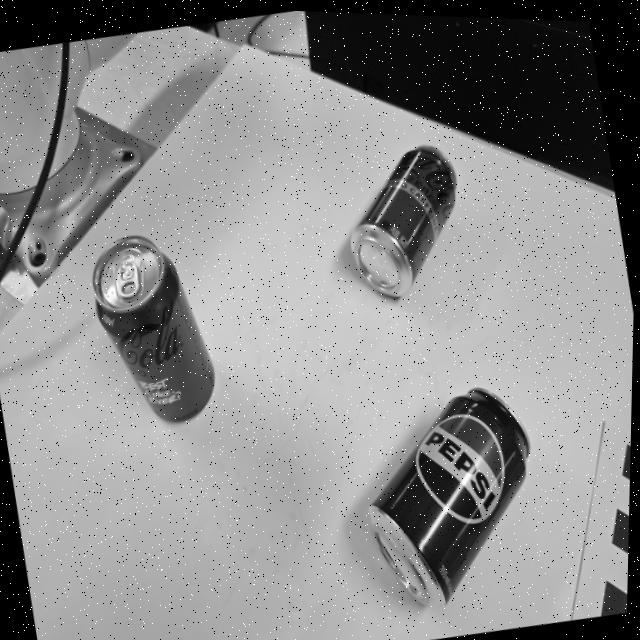can_coke_decaf: (350, 142, 457, 301)
can_coke_zero: (94, 238, 215, 420)
can_pepsi: (367, 387, 532, 607)
